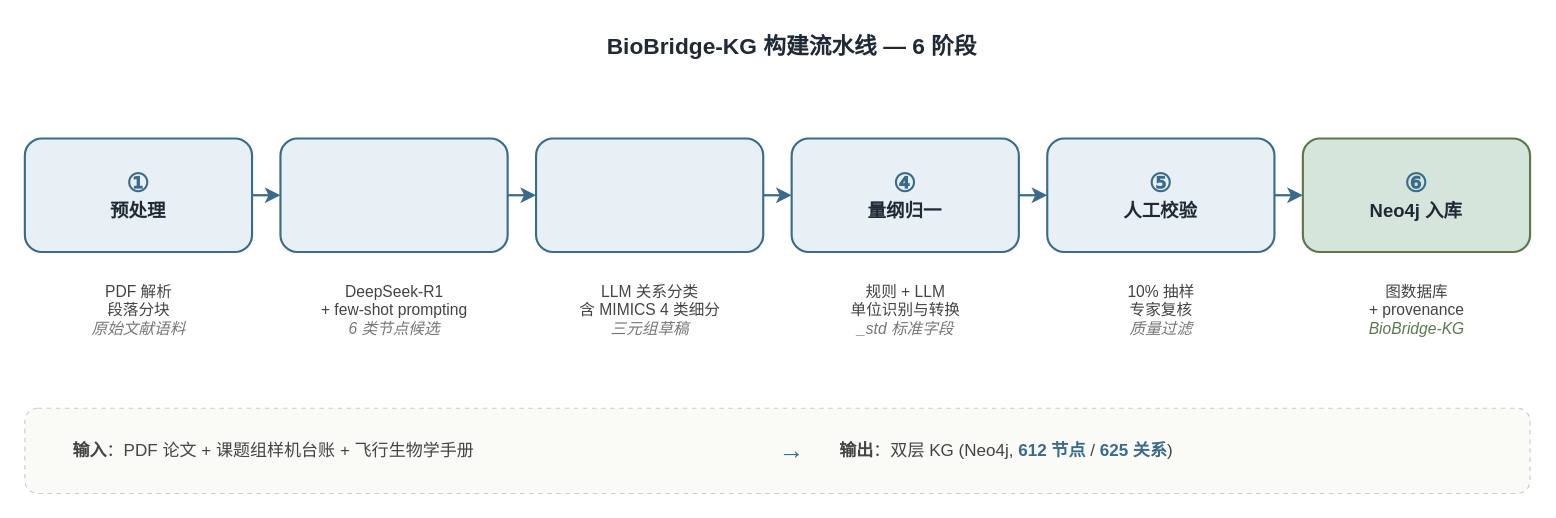
Some shapes in this 1556 by 518 pixel diagram are drawn without their labels. The shapes that lost their labels are listed below. From the top down, each one's centre as x and y in pixels, then its label:
At point (393, 194): "② 实体识别".
At point (649, 194): "③ 关系抽取".
